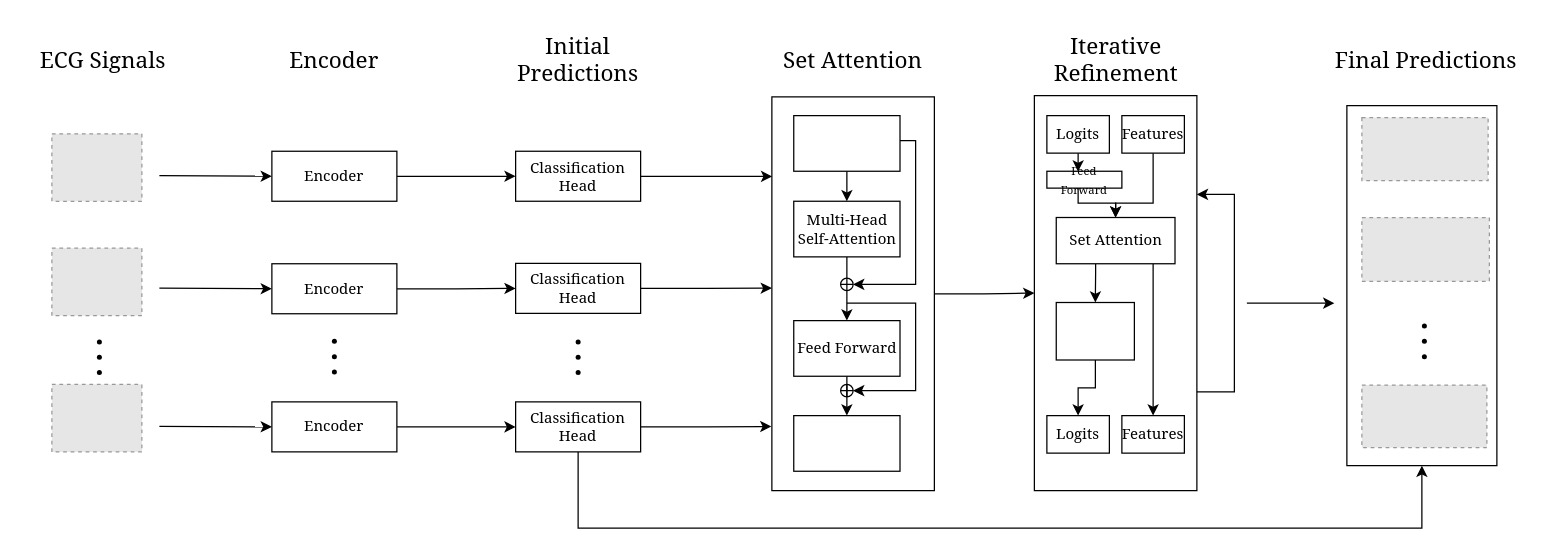
Image size: 1546x560. Some labels were removed from this diagram. Grey dashed boxes stand in for pictures. Each missing label, with the centre of its shape:
"Feed Forward + Softmax" belongs at pixel 1094 330.
"Input" belongs at pixel 846 142.
"Output" belongs at pixel 846 442.
